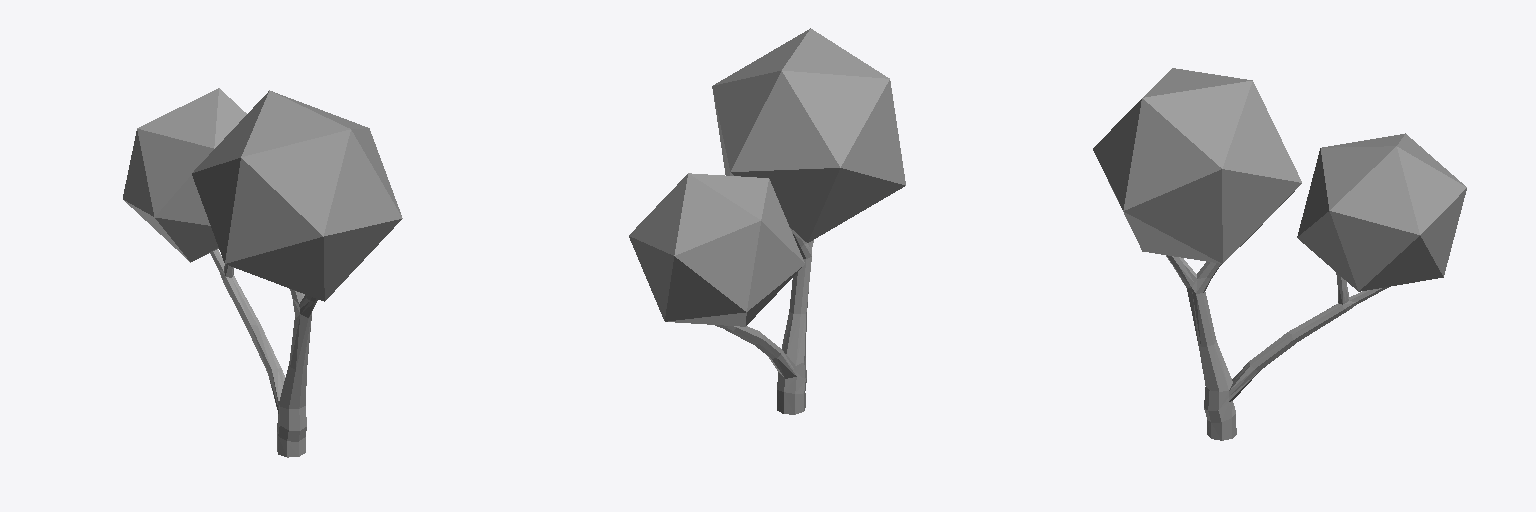
File: Tree3.obj
3 views of the same model, side by side, from view 1: azimuth 30°, elevation 25°; view 2: azimuth 150°, elevation 25°; view 3: azimuth 270°, elevation 25° (orthographic).
Visible parts, largest first — view 1: Icosphere.008; view 2: Icosphere.008; view 3: Icosphere.008.
Part boxes in pixels (bbox=[...]): Icosphere.008: bbox=[123, 88, 402, 457]; Icosphere.008: bbox=[629, 28, 905, 414]; Icosphere.008: bbox=[1093, 68, 1466, 440].
Size of the model in its own units: 1.32 by 2.62 by 2.53.